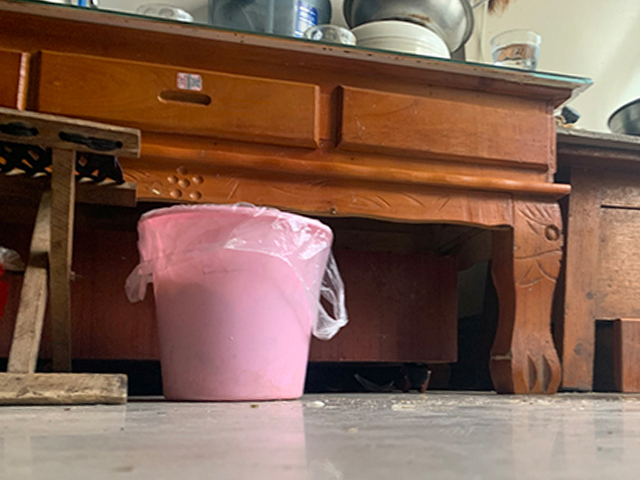stool: (1, 106, 141, 404)
table: (1, 1, 595, 395)
trashcan: (140, 202, 344, 403)
